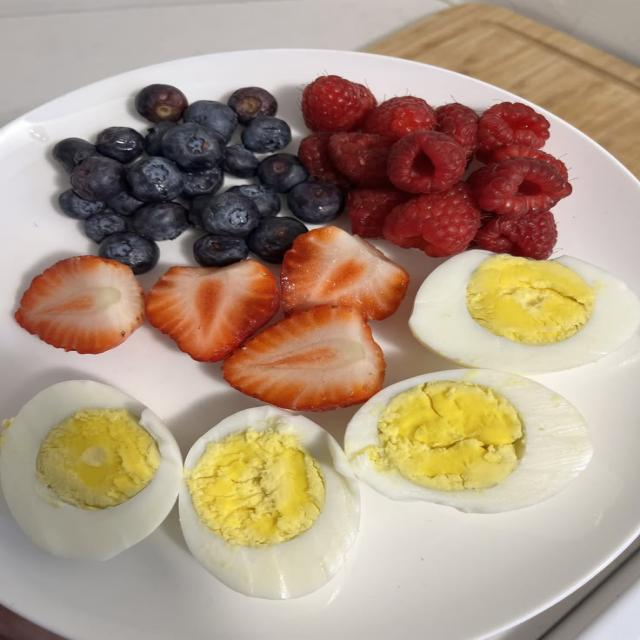blueberry: (163, 123, 223, 171), (249, 217, 307, 263), (202, 191, 260, 236), (127, 157, 183, 202), (99, 232, 158, 274), (70, 157, 124, 200), (183, 100, 237, 142), (288, 180, 341, 222), (133, 202, 189, 240), (257, 153, 307, 192), (136, 84, 187, 122), (227, 87, 277, 124), (194, 234, 248, 266), (230, 184, 280, 217), (96, 127, 142, 162), (53, 138, 98, 173), (60, 189, 107, 221), (84, 211, 127, 243), (183, 168, 223, 198), (223, 144, 259, 177), (224, 144, 258, 177), (106, 188, 144, 217)
egg boiled: (345, 369, 592, 512), (179, 406, 359, 599), (0, 380, 182, 560), (409, 250, 639, 373)
raspberry: (383, 181, 480, 256), (469, 157, 571, 217), (387, 131, 465, 193), (302, 75, 377, 132), (475, 210, 557, 259), (478, 102, 550, 151), (330, 132, 392, 187), (344, 187, 410, 238), (364, 96, 436, 141), (489, 144, 567, 180), (298, 133, 349, 188), (436, 102, 477, 159)
strawberry sliced: (223, 305, 385, 410), (146, 260, 279, 361), (15, 255, 144, 354), (281, 226, 409, 320)
